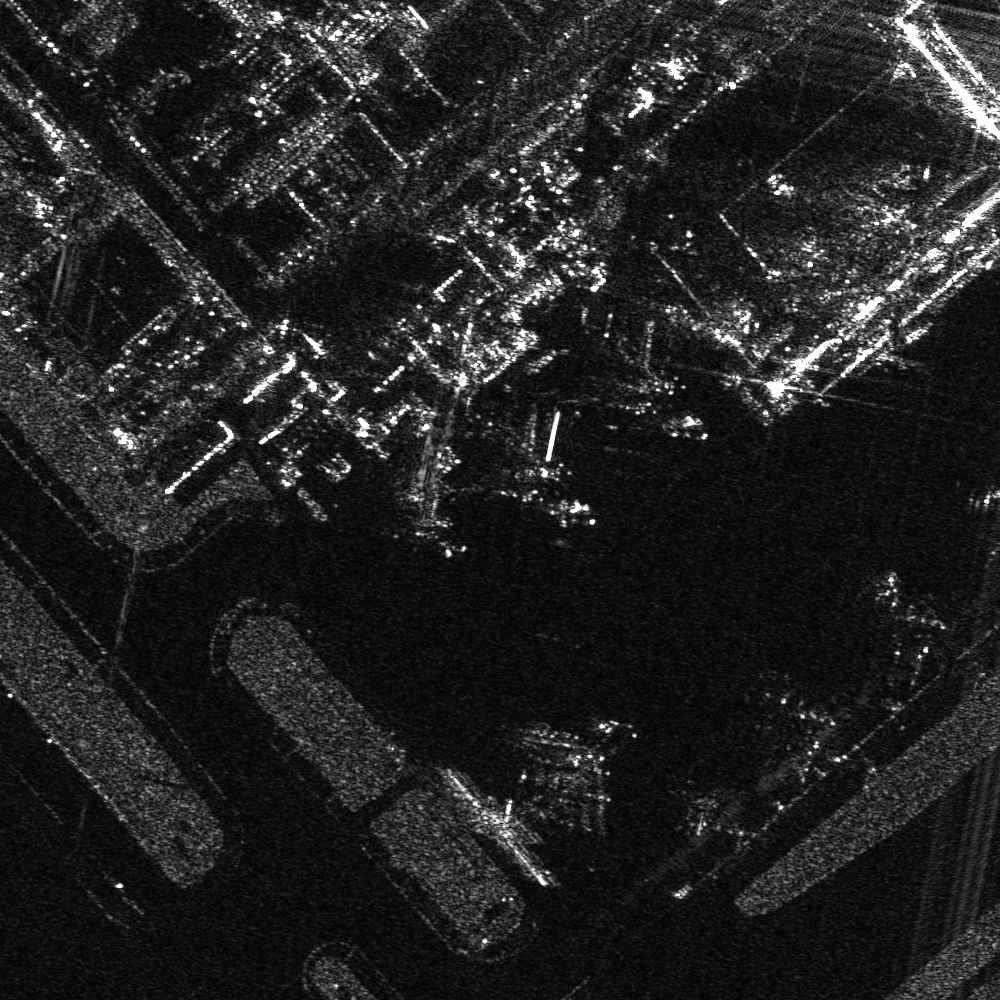Boeing737: (374, 438, 484, 552)
Boeing787: (573, 312, 671, 397), (475, 409, 566, 492), (864, 566, 945, 649)
other: (505, 717, 645, 830), (969, 480, 999, 569)
